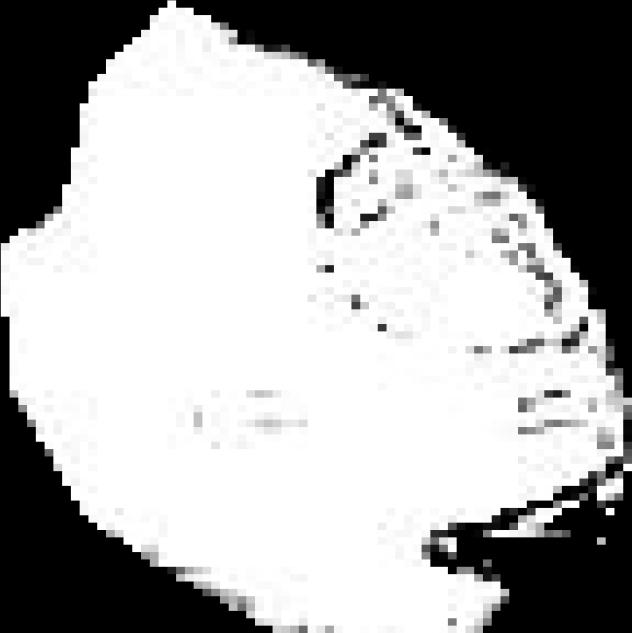tumor_moderate_chance: (1, 0, 632, 633)
